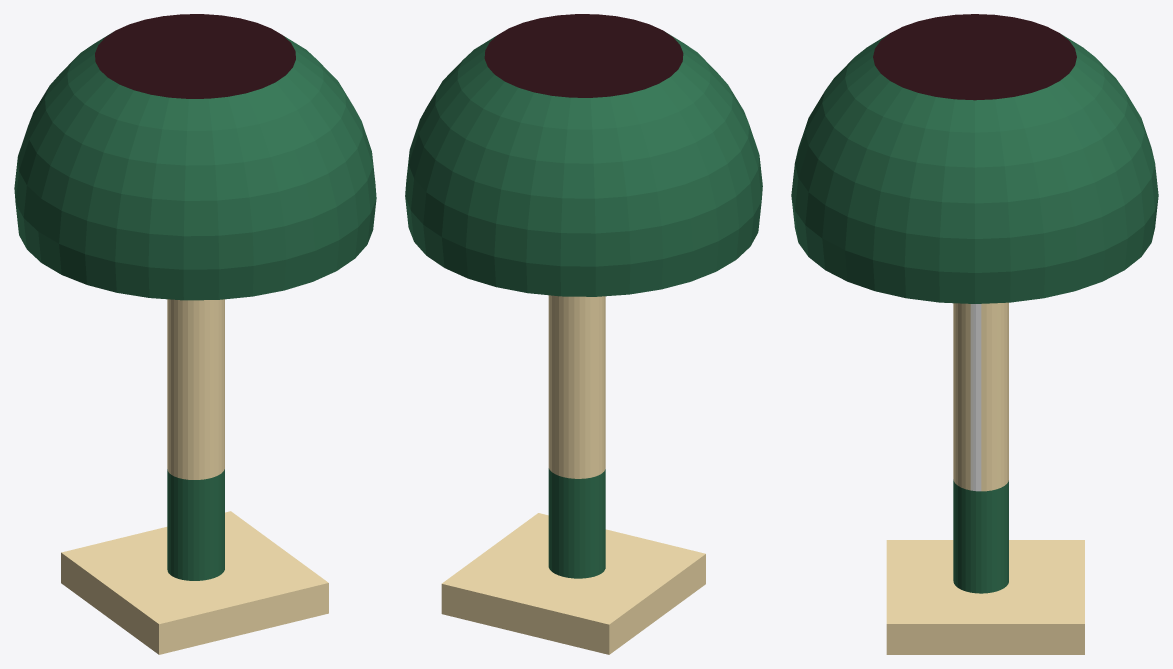
The model's file is lamp2.gltf.
3 views of the same model, side by side, from view 1: azimuth 30°, elevation 25°; view 2: azimuth 150°, elevation 25°; view 3: azimuth 270°, elevation 25° (orthographic). The views are drawn at different scales.
Visible parts, largest first — view 1: Cube.007; view 2: Cube.007; view 3: Cube.007.
Boxes of the visible parts, x1,y1,x2,y2 form: Cube.007: (14, 14, 376, 654); Cube.007: (405, 14, 762, 654); Cube.007: (791, 14, 1158, 654).
Bounding box in the file's own units: 0.1411 × 0.2347 × 0.1411.
3 materials, 3 textured.
